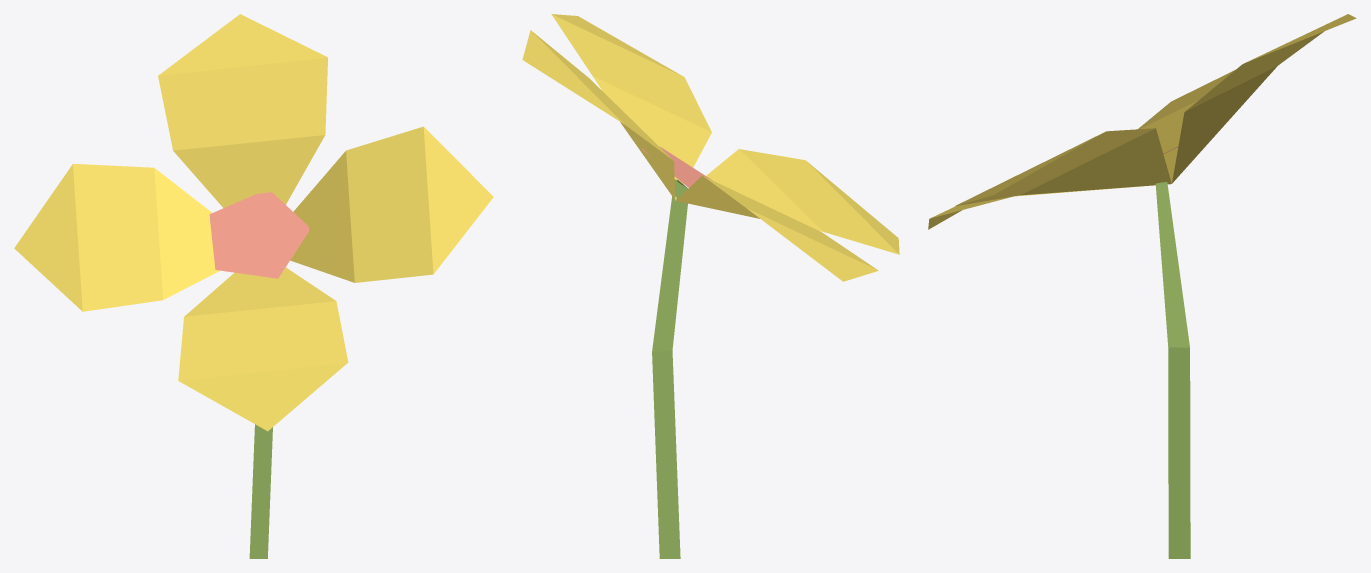
File: Flower_d_OneS_03.fbx
3 views of the same model, side by side, from view 1: azimuth 30°, elevation 25°; view 2: azimuth 150°, elevation 25°; view 3: azimuth 270°, elevation 25° (orthographic). The views are drawn at different scales.
Parts seen in each view (by area): view 1: Flower_d_OneS_03; view 2: Flower_d_OneS_03; view 3: Flower_d_OneS_03.
Part boxes in pixels (x1,y1,x2,y2): Flower_d_OneS_03: (14, 14, 493, 558); Flower_d_OneS_03: (522, 14, 899, 558); Flower_d_OneS_03: (928, 14, 1356, 558).
Size of the model in its own units: 21.82 by 27.84 by 18.96.
